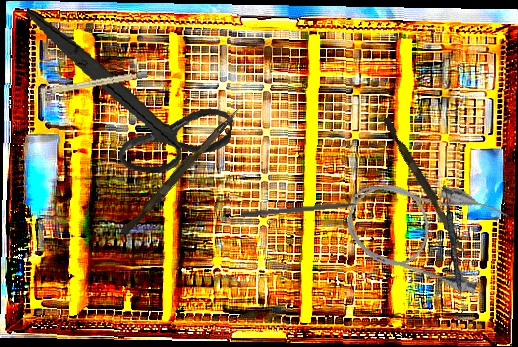Cannula: (337, 160, 511, 299)
Iris Scissors: (8, 8, 244, 182)
Pusher: (120, 103, 241, 239), (379, 116, 473, 257), (240, 200, 376, 219)
Scalpel Handle: (38, 70, 148, 97)
Spatula Surgical: (440, 188, 469, 317)
